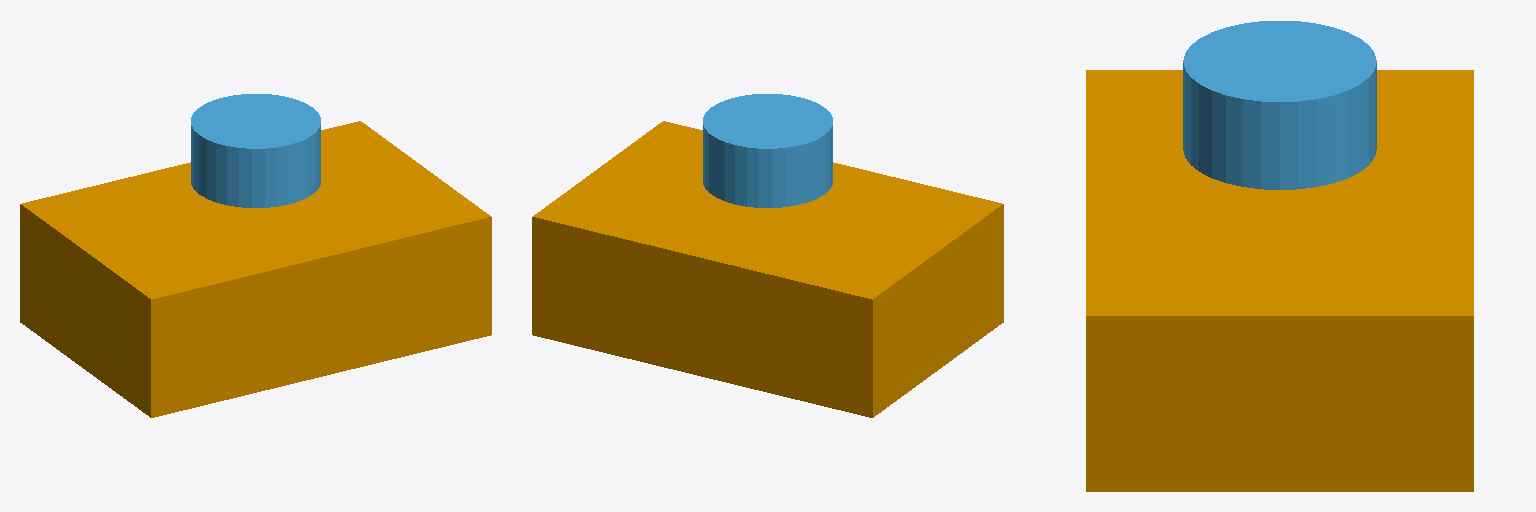
The robot description file, URDF, robot "delivery_bot":
<robot name="delivery_bot">
  <link name="base_link">
    <visual>
      <geometry>
        <box size="0.3 0.2 0.1"/>
      </geometry>
      <material name="gray"/>
    </visual>
  </link>

  <joint name="lidar_joint" type="fixed">
    <parent link="base_link"/>
    <child link="lidar_link"/>
  </joint>

  <link name="lidar_link">
    <visual>
      <geometry>
        <cylinder length="0.05" radius="0.05"/>
      </geometry>
      <origin xyz="0 0 0.1"/>
      <material name="red"/>
    </visual>
  </link>
</robot>

--- What the picture shows (computed from the rendered views, not written in the file) ---
The picture shows the robot from 3 angles, left to right: view 1: azimuth 30°, elevation 25°; view 2: azimuth 150°, elevation 25°; view 3: azimuth 270°, elevation 25°; orthographic projection.
Robot: delivery_bot — 2 links, 1 joints (1 fixed); root link base_link; default pose: all joints at 0.
Visible links, largest first — view 1: base_link, lidar_link; view 2: base_link, lidar_link; view 3: base_link, lidar_link.
Boxes of the visible links, x1,y1,x2,y2 form: base_link: (20, 121, 491, 417); lidar_link: (191, 94, 320, 207); base_link: (532, 121, 1003, 417); lidar_link: (703, 94, 832, 207); base_link: (1086, 70, 1473, 491); lidar_link: (1183, 21, 1376, 189).
Bounding box of the posed robot: 0.3 × 0.2 × 0.175 m (x, y, z).
Geometry: primitives only (box / cylinder / sphere), no mesh files.